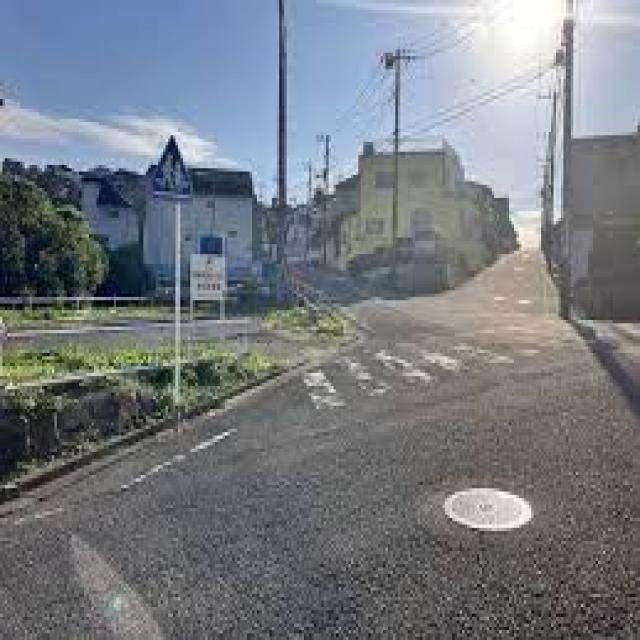manhole: (443, 486, 532, 530)
